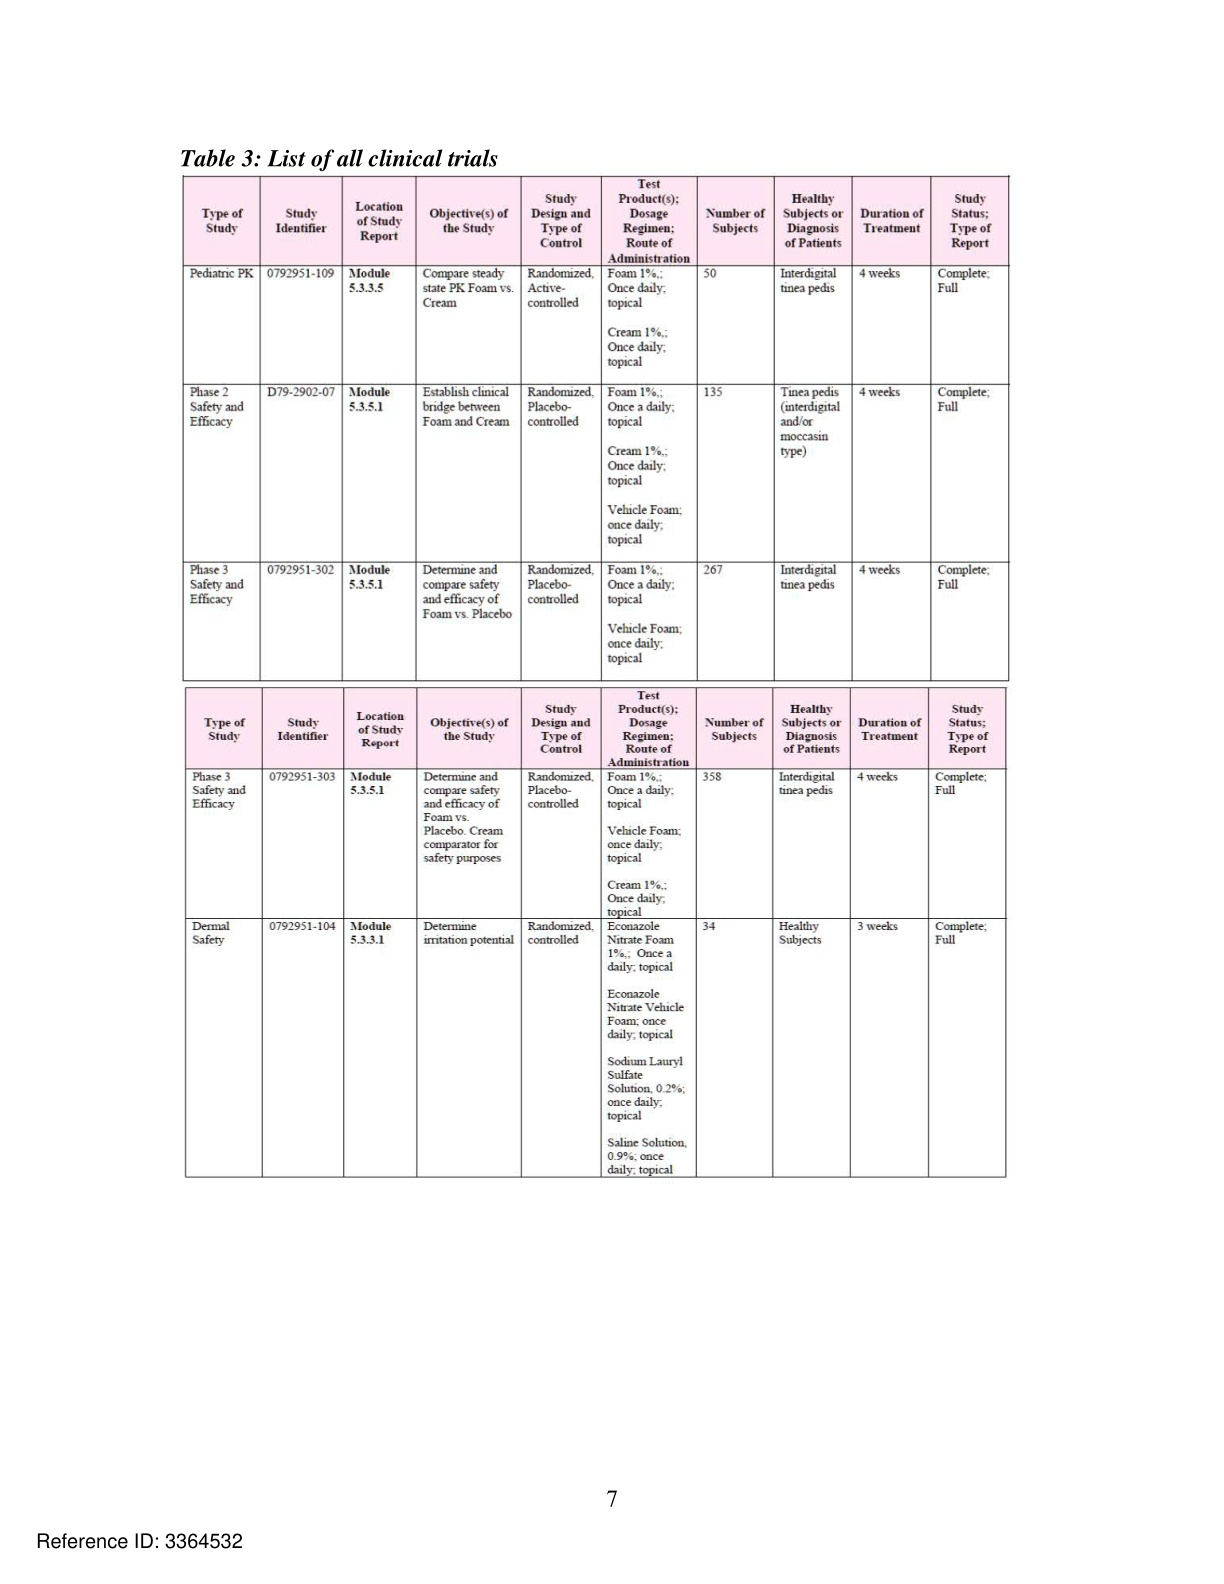full_lined: (181, 175, 1011, 681), (184, 687, 1007, 1179)
